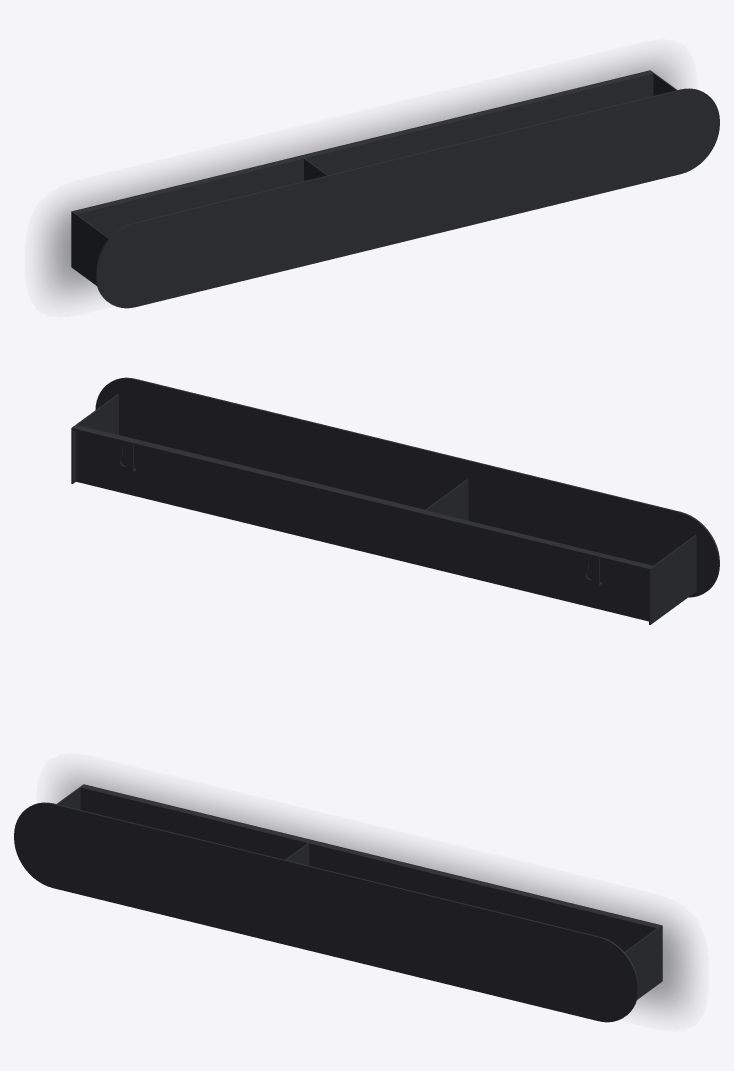
The model's file is round-double.c428bccbd4.ar.glb.
The picture shows the model from 3 angles, top to bottom: view 1: azimuth 30°, elevation 25°; view 2: azimuth 150°, elevation 25°; view 3: azimuth 330°, elevation 25°; orthographic projection.
Parts seen in each view (by area): view 1: NAUO1, object 2; view 2: NAUO1; view 3: NAUO1, object 2.
Part boxes in pixels (bbox=[...]): NAUO1: bbox=[71, 70, 719, 308]; object 2: bbox=[42, 59, 679, 297]; NAUO1: bbox=[71, 377, 719, 624]; NAUO1: bbox=[14, 784, 662, 1022]; object 2: bbox=[54, 773, 691, 1011].
Bounding box in the file's own units: 0.78 × 0.17 × 0.092.
2 materials, 1 textured.
